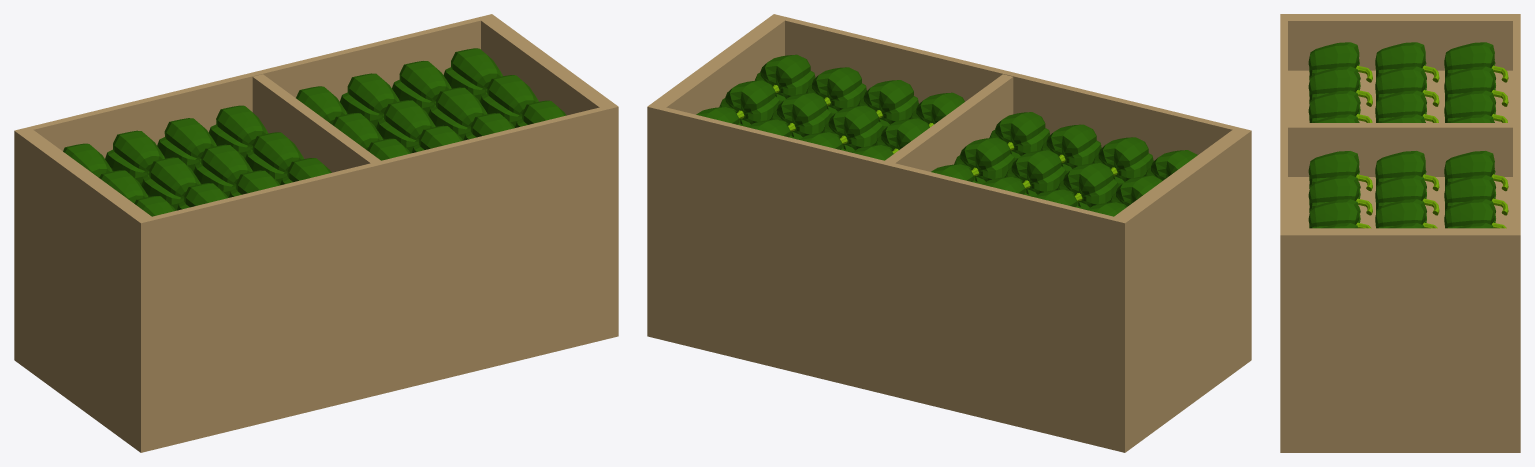
File: green_pepper_box.gltf
3 renders of one model, left to right at view 1: azimuth 30°, elevation 25°; view 2: azimuth 150°, elevation 25°; view 3: azimuth 270°, elevation 25°, orthographic. The views are drawn at different scales.
Parts seen in each view (by area): view 1: Cube; view 2: Cube; view 3: Cube.
Boxes of the visible parts, <box> form: Cube: <box>14,14,618,452</box>; Cube: <box>647,14,1251,452</box>; Cube: <box>1280,14,1520,452</box>.
Size of the model in its own units: 9.22 by 4.23 by 4.23.
